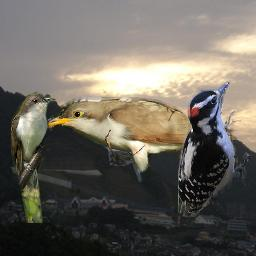Cuckoo: (43, 97, 238, 190), (11, 89, 56, 223)
Woodpecker: (178, 80, 252, 217)
